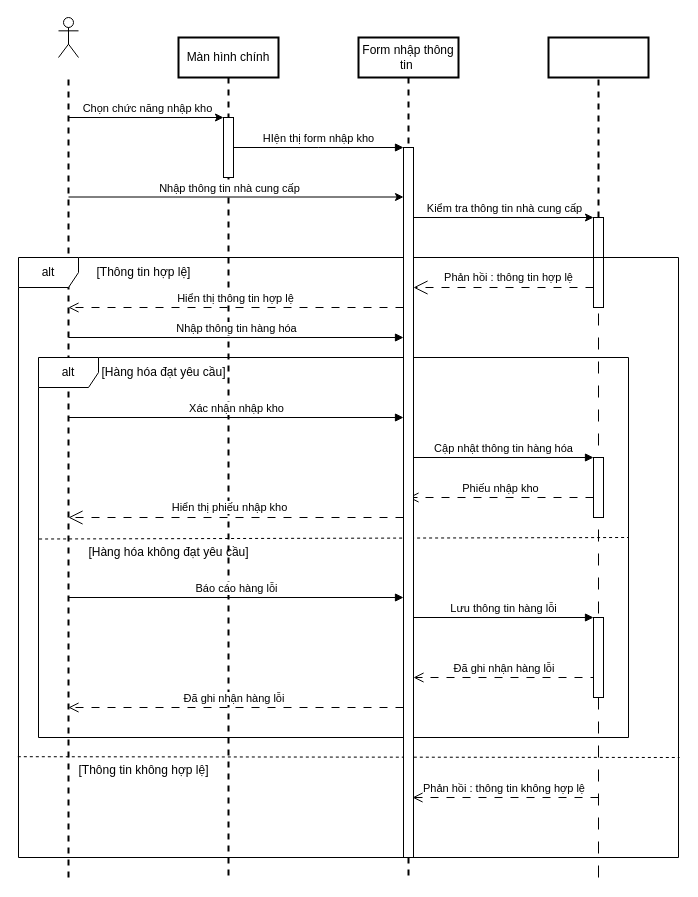
This 698x897 diagram has some shape labels left out. The shapes that lost their labels are listed below. From the top down, each one's box as (x1, y1, x2, y2) in pixels, then its label:
(58, 16, 78, 58): Nhân viên kho
(547, 36, 649, 78): Hệ thống
